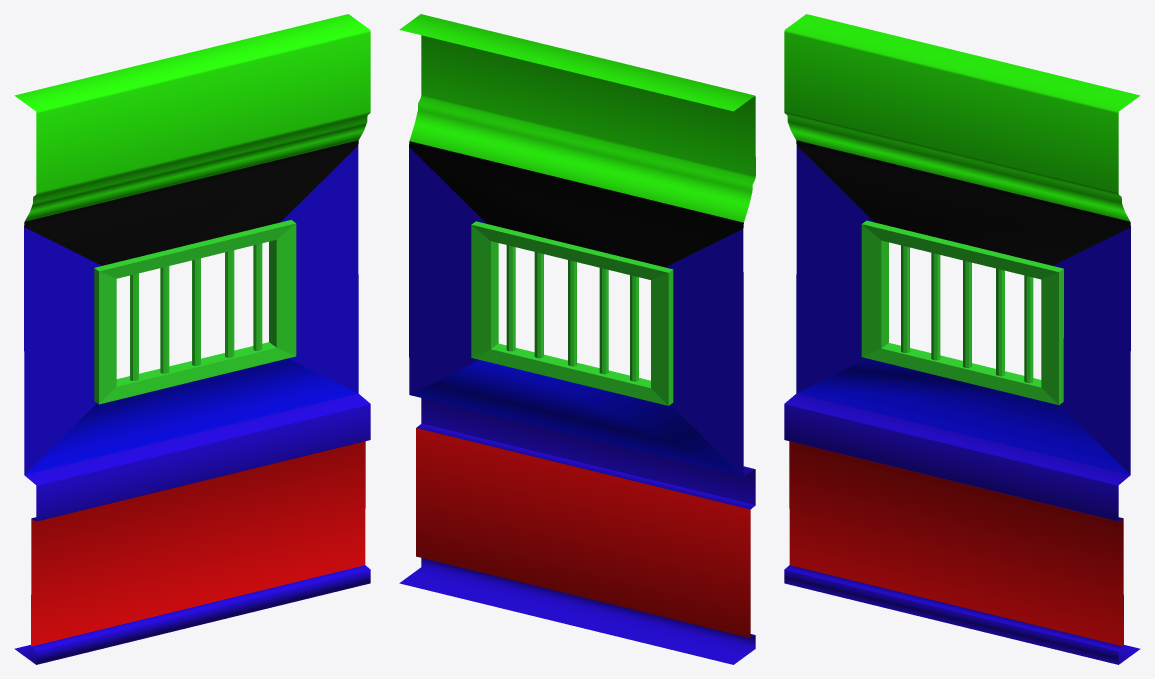
The model's file is InnerWindowedWall.fbx.
3 renders of one model, left to right at view 1: azimuth 30°, elevation 25°; view 2: azimuth 150°, elevation 25°; view 3: azimuth 330°, elevation 25°, orthographic.
Visible parts, largest first — view 1: Inner Wall; view 2: Inner Wall; view 3: Inner Wall.
Boxes of the visible parts, x1=… form: Inner Wall: x1=14, y1=14, x2=370, y2=664; Inner Wall: x1=399, y1=14, x2=755, y2=664; Inner Wall: x1=784, y1=14, x2=1140, y2=664.
Size of the model in its own units: 261 by 413 by 30.
